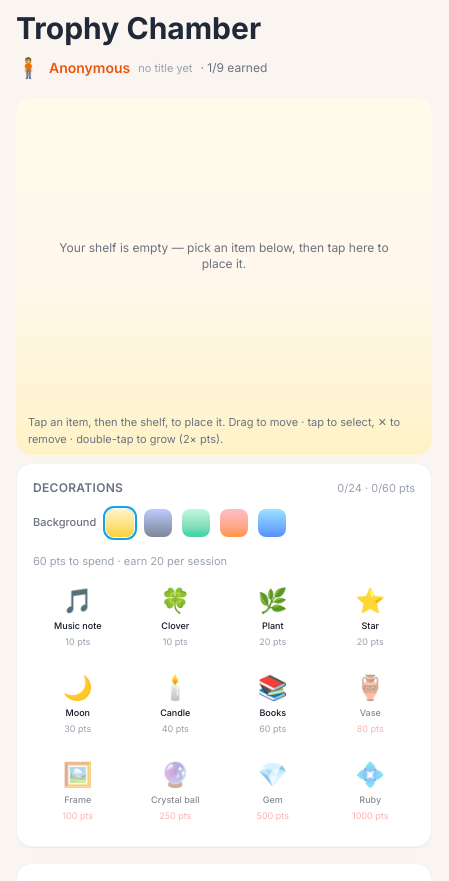
Test: Chamber page › spends points up to the value cap, then locks the picker
This screenshot has width=449, height=881.
Click the button with aria-label "Pick up Plant, 20 points": x=273, y=616 top-left (228, 577), bottom-right (318, 656)
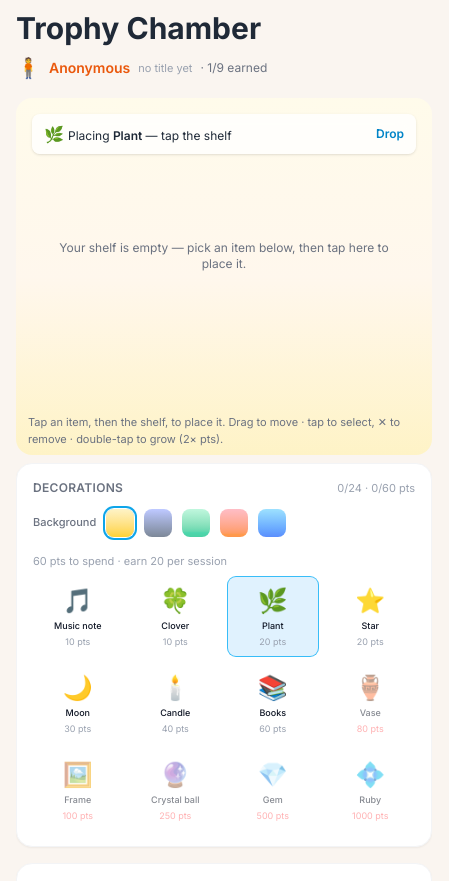
Click the element "shelf": x=224, y=134 top-left (32, 114), bottom-right (416, 271)
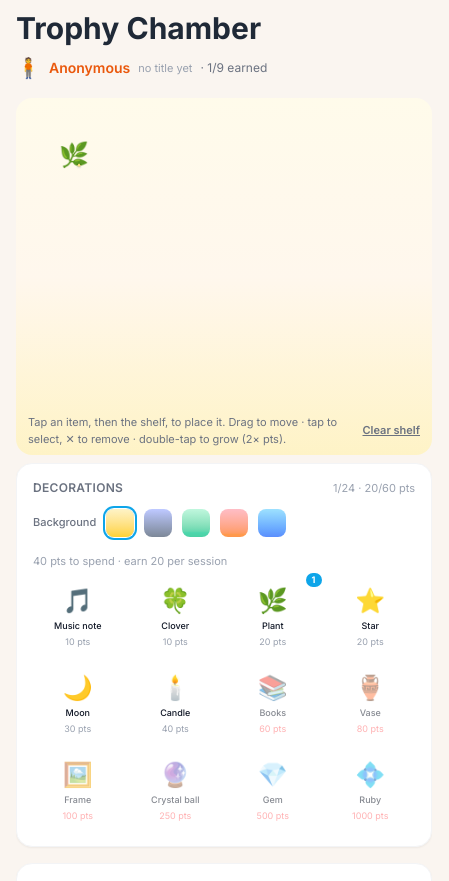
Click the button with aria-label "Pick up Candle, 40 points": x=175, y=704 top-left (130, 664), bottom-right (220, 743)
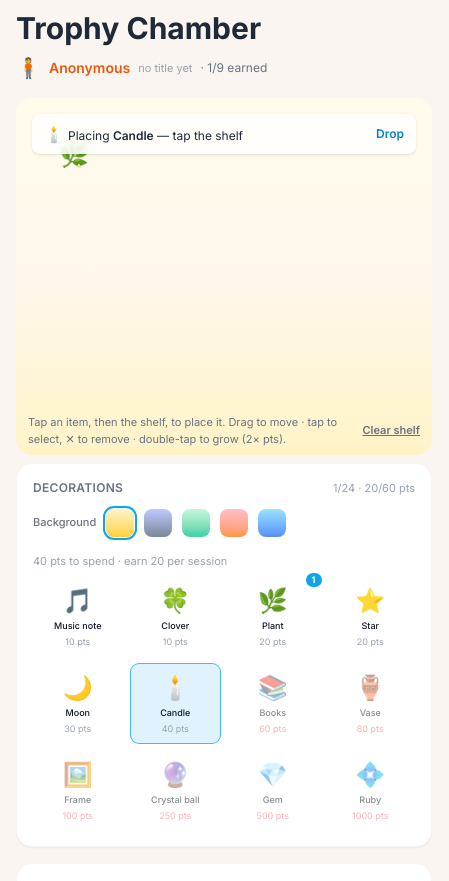
Click the element "shelf": x=224, y=141 top-left (32, 114), bottom-right (416, 168)
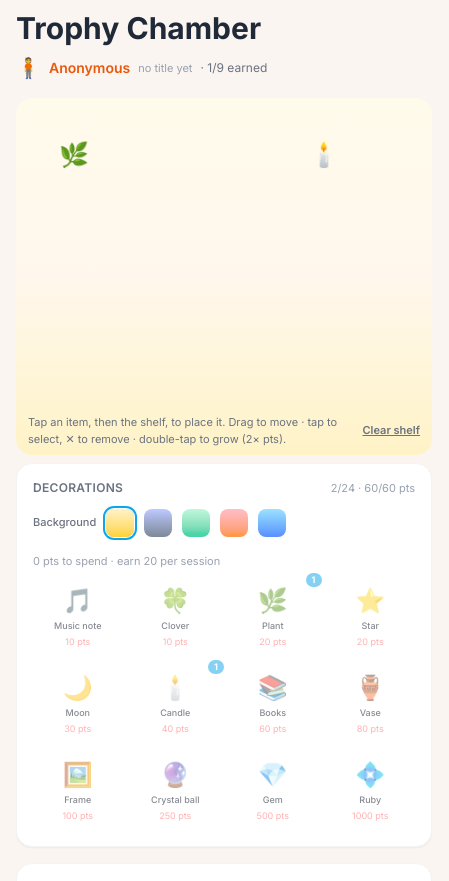
Expected: the button with aria-label "Pick up Star, 20 points" is disabled, top-left (326, 577), bottom-right (415, 656)
